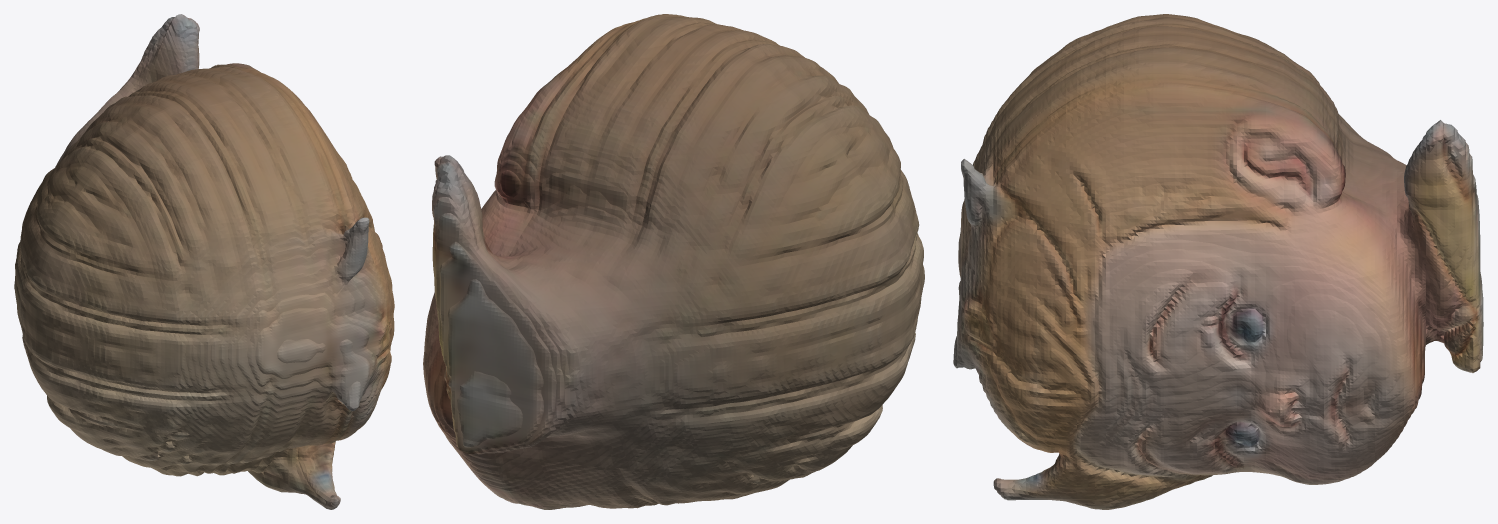
3 renders of one model, left to right at view 1: azimuth 30°, elevation 25°; view 2: azimuth 150°, elevation 25°; view 3: azimuth 270°, elevation 25°, orthographic. The views are drawn at different scales.
Visible parts, largest first — view 1: world; view 2: world; view 3: world.
Part boxes in pixels (left/top/right/bottom): world: left=14, top=14, right=394, bottom=509; world: left=423, top=14, right=924, bottom=509; world: left=953, top=14, right=1483, bottom=509.
Size of the model in its own units: 0.7791 by 0.9279 by 0.9948.
